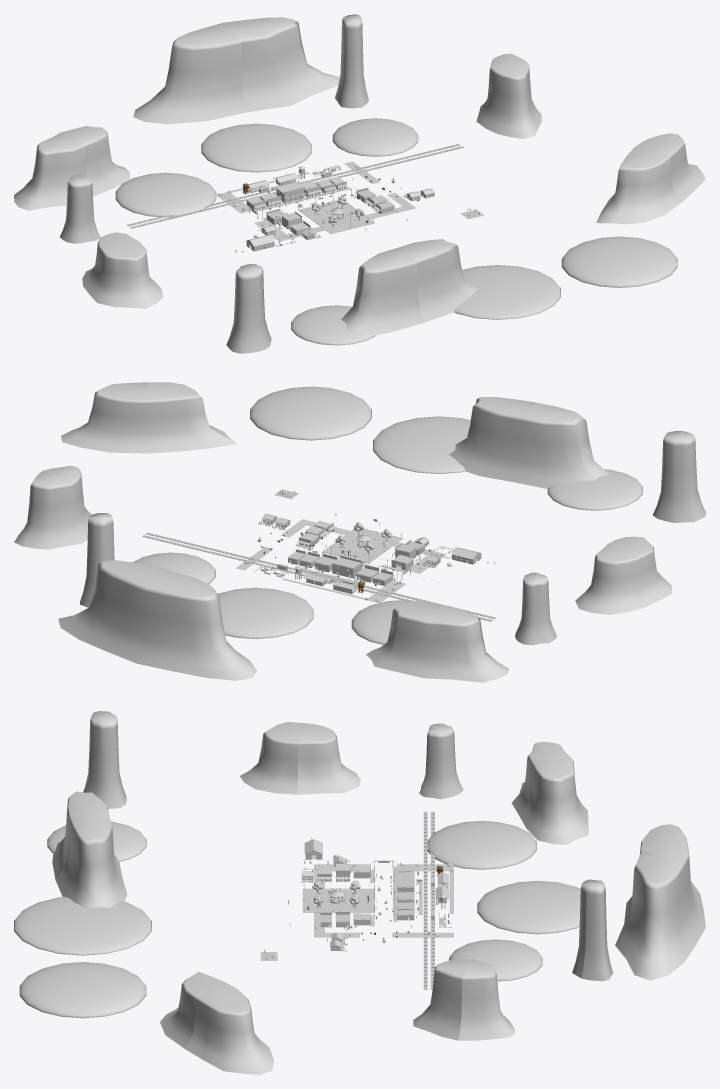
File: tc-town.glb
The picture shows the model from 3 angles, top to bottom: view 1: azimuth 30°, elevation 25°; view 2: azimuth 150°, elevation 25°; view 3: azimuth 270°, elevation 25°; orthographic projection. The views are drawn at different scales.
Parts seen in each view (by area): view 1: mesa||0, mesaDark||0, hill||0, roofTin||1, grassDry||0, ballast||0, dirtPath||1, tie||0, trimDark||1, rail_||0; view 2: mesa||0, mesaDark||0, hill||0, roofTin||1, grassDry||0, ballast||0, dirtPath||1, tie||0, trimDark||1, rail_||0, deck||1; view 3: mesa||0, hill||0, mesaDark||0, roofTin||1, grassDry||0, dirtPath||1, ballast||0, tie||0, deck||1.
Part boxes in pixels (x1,y1,x2,y2): mesa||0: (14, 14, 541, 353); mesaDark||0: (82, 17, 705, 308); hill||0: (115, 118, 677, 345); roofTin||1: (246, 165, 428, 234); grassDry||0: (216, 161, 484, 241); ballast||0: (128, 144, 463, 228); dirtPath||1: (249, 202, 478, 248); tie||0: (127, 144, 462, 228); trimDark||1: (249, 170, 470, 240); rail_||0: (127, 144, 463, 228); mesa||0: (14, 397, 705, 682); mesaDark||0: (58, 382, 671, 680); hill||0: (133, 386, 642, 644); roofTin||1: (259, 518, 435, 589); grassDry||0: (236, 489, 446, 603); ballast||0: (142, 532, 495, 621); dirtPath||1: (280, 491, 477, 563); tie||0: (143, 533, 495, 621); trimDark||1: (263, 493, 478, 586); rail_||0: (144, 532, 495, 621); deck||1: (262, 521, 435, 593); mesa||0: (52, 711, 613, 1040); hill||0: (14, 821, 580, 1018); mesaDark||0: (160, 722, 705, 1074); roofTin||1: (302, 858, 448, 947); grassDry||0: (260, 864, 453, 960); dirtPath||1: (262, 855, 369, 959); ballast||0: (423, 812, 434, 989); tie||0: (424, 811, 434, 989); deck||1: (302, 863, 447, 950).
Bounding box in the file's own units: 533 × 70.2 × 494.
Materials: 21 (21 with a texture image).
